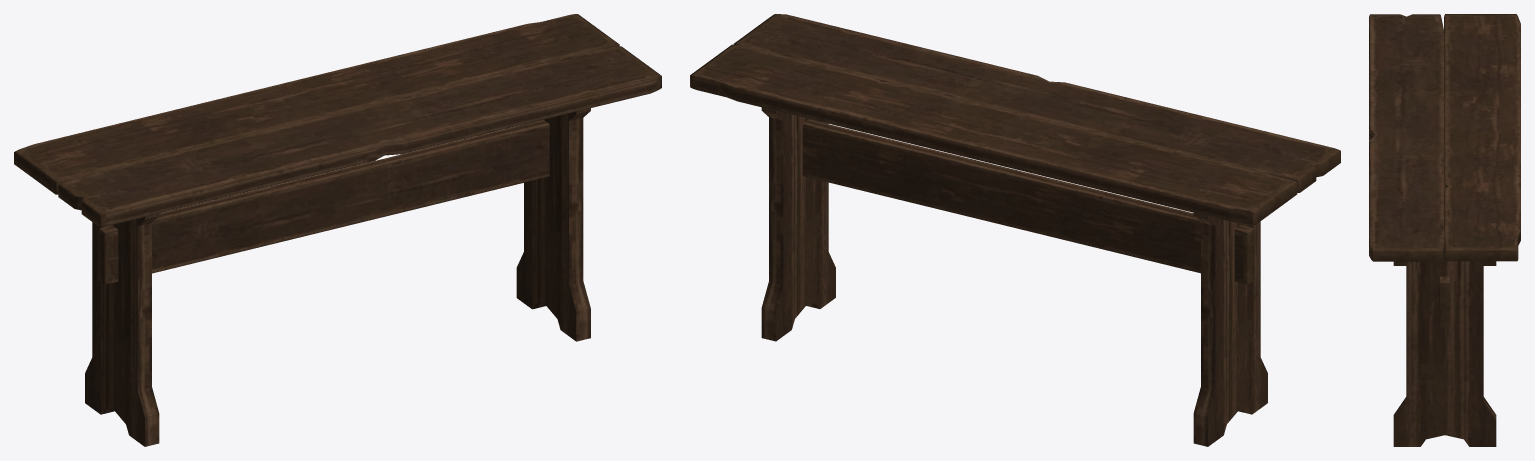
Rendered from TableC.glb.
3 views of the same model, side by side, from view 1: azimuth 30°, elevation 25°; view 2: azimuth 150°, elevation 25°; view 3: azimuth 270°, elevation 25° (orthographic). The views are drawn at different scales.
Visible parts, largest first — view 1: TableC; view 2: TableC; view 3: TableC.
Part boxes in pixels (<box>): TableC: <box>14,14,661,446</box>; TableC: <box>690,14,1340,446</box>; TableC: <box>1369,14,1520,446</box>.
Size of the model in its own units: 1.99 by 0.871 by 0.5401.
Materials: 1 (1 with a texture image).
